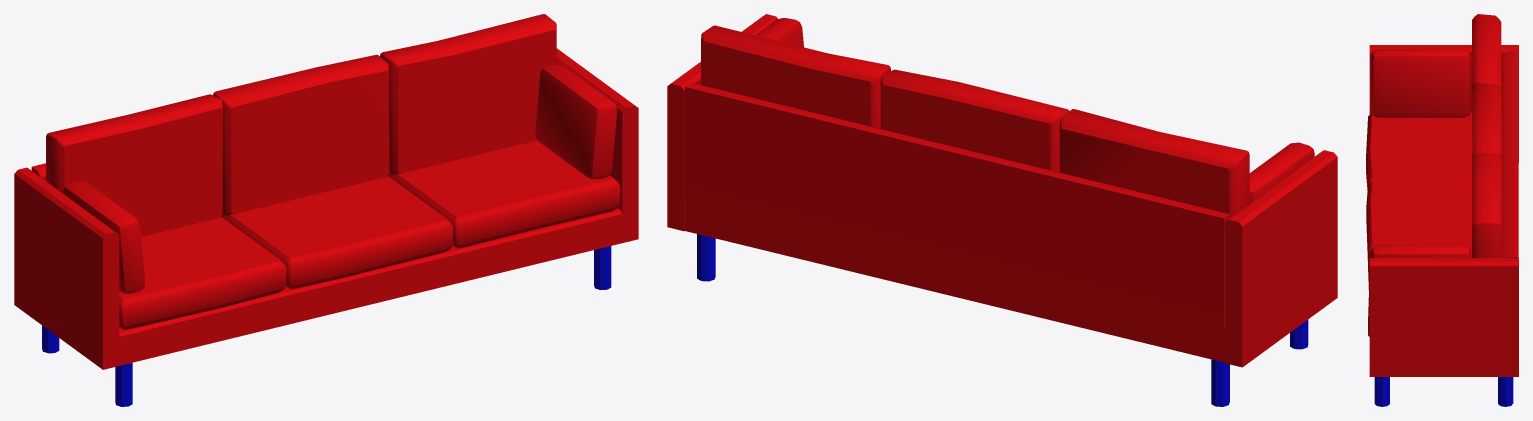
File: Sofa 1.fbx
The picture shows the model from 3 angles, left to right: view 1: azimuth 30°, elevation 25°; view 2: azimuth 150°, elevation 25°; view 3: azimuth 270°, elevation 25°; orthographic projection. The views are drawn at different scales.
Parts seen in each view (by area): view 1: Sofa; view 2: Sofa; view 3: Sofa.
Boxes of the visible parts, <box> form: Sofa: <box>14,14,638,406</box>; Sofa: <box>667,14,1337,406</box>; Sofa: <box>1366,14,1518,406</box>.
Bounding box in the file's own units: 266 × 107 × 78.19.
